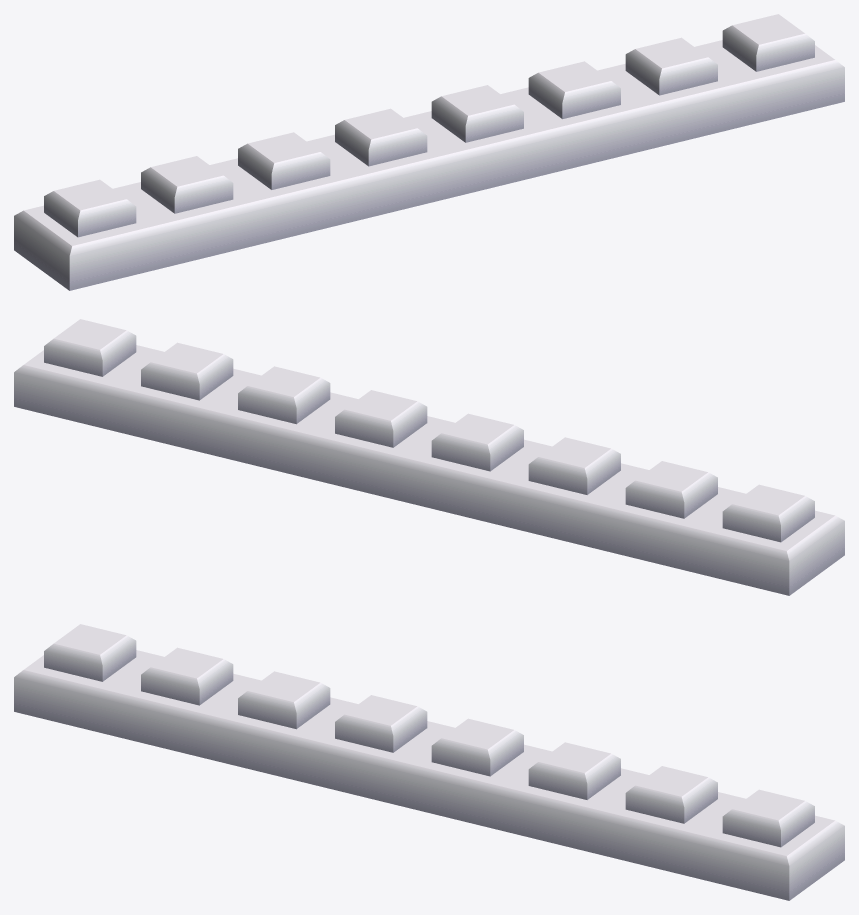
File: square-hq-plate-1x8.glb
3 views of the same model, one above another, from view 1: azimuth 30°, elevation 25°; view 2: azimuth 150°, elevation 25°; view 3: azimuth 330°, elevation 25° (orthographic).
Parts seen in each view (by area): view 1: square-hq-plate-1x8; view 2: square-hq-plate-1x8; view 3: square-hq-plate-1x8.
Boxes of the visible parts, x1,y1,x2,y2 form: square-hq-plate-1x8: (14, 14, 844, 290); square-hq-plate-1x8: (14, 319, 844, 595); square-hq-plate-1x8: (14, 624, 844, 900).
Size of the model in its own units: 0.636 by 0.05 by 0.079.
1 material, 1 textured.
